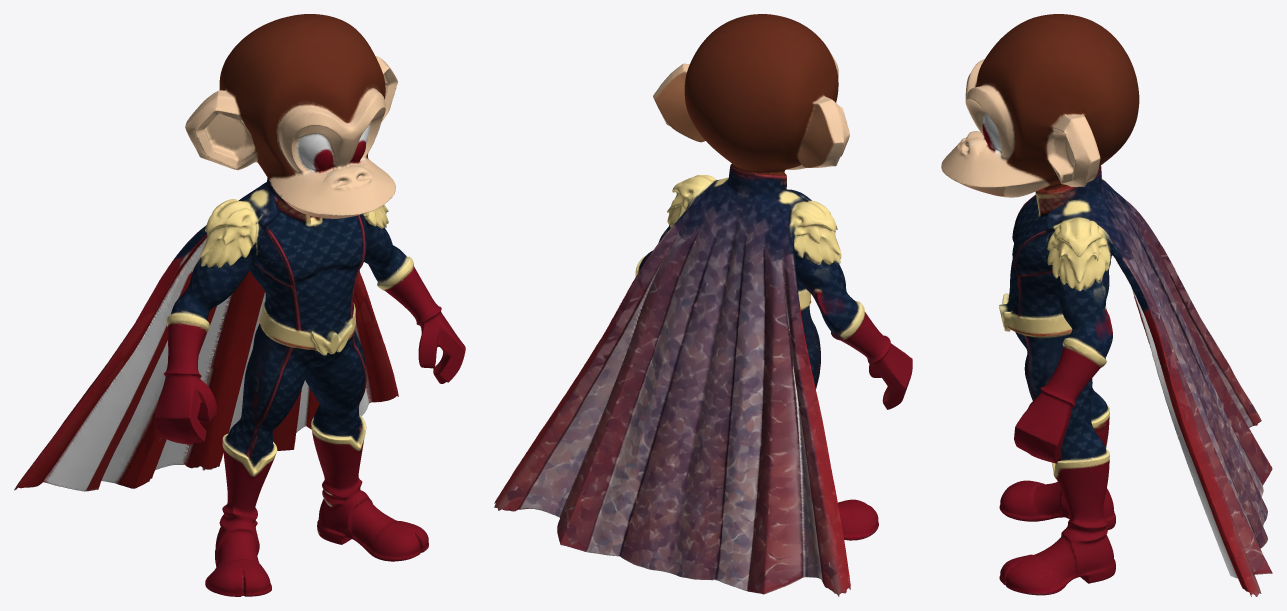
File: macacopatria.glb
3 views of the same model, side by side, from view 1: azimuth 30°, elevation 25°; view 2: azimuth 150°, elevation 25°; view 3: azimuth 270°, elevation 25° (orthographic). The views are drawn at different scales.
Bounding box in the file's own units: 1.42 × 1.9 × 1.08.
Materials: 1 (1 with a texture image).
